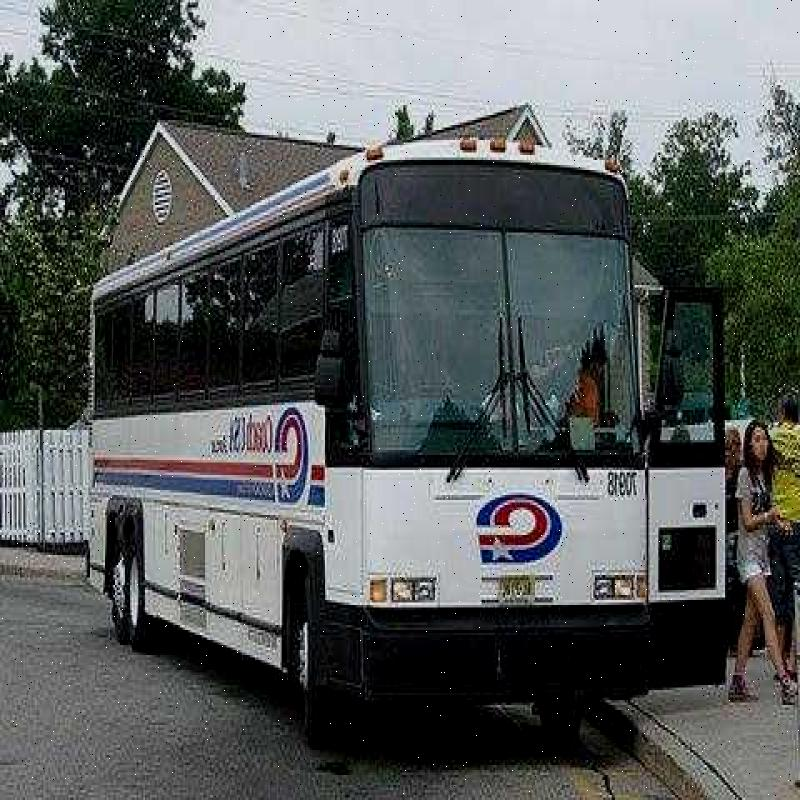bus: (75, 126, 656, 730)
